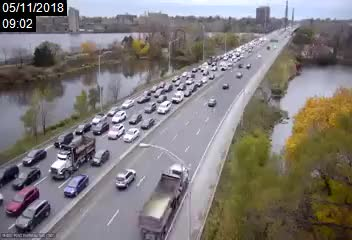congestion: (3, 128, 110, 234), (61, 96, 161, 152), (131, 72, 201, 110), (186, 57, 232, 79)
personal_car: (15, 199, 51, 231), (6, 185, 41, 215), (12, 167, 42, 188), (63, 175, 89, 197), (21, 149, 48, 166), (89, 148, 110, 168), (1, 162, 18, 186), (116, 169, 136, 189), (54, 131, 74, 149), (107, 123, 125, 140), (124, 128, 140, 142), (93, 121, 109, 135), (111, 110, 126, 124), (75, 123, 91, 136), (159, 101, 172, 115), (141, 117, 155, 130), (92, 113, 106, 125), (171, 90, 183, 103), (144, 101, 156, 114), (129, 112, 141, 125), (108, 105, 119, 116), (138, 95, 150, 105), (123, 99, 134, 109), (207, 97, 217, 108), (163, 83, 173, 92), (221, 82, 231, 90), (153, 89, 162, 97), (186, 84, 196, 91), (182, 89, 192, 96), (157, 95, 167, 102), (235, 71, 243, 79), (177, 83, 186, 90), (170, 75, 180, 81), (185, 77, 193, 84), (194, 80, 202, 87), (158, 80, 165, 88), (151, 85, 158, 92), (174, 80, 181, 86)
truck: (137, 164, 189, 239), (50, 137, 96, 180)
